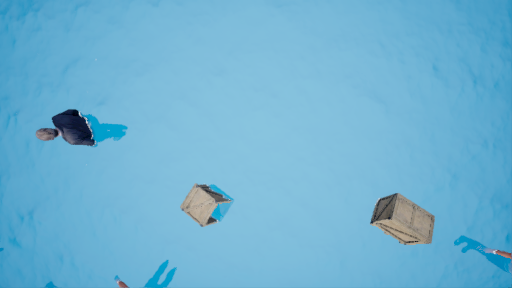person: (36, 107, 138, 153)
